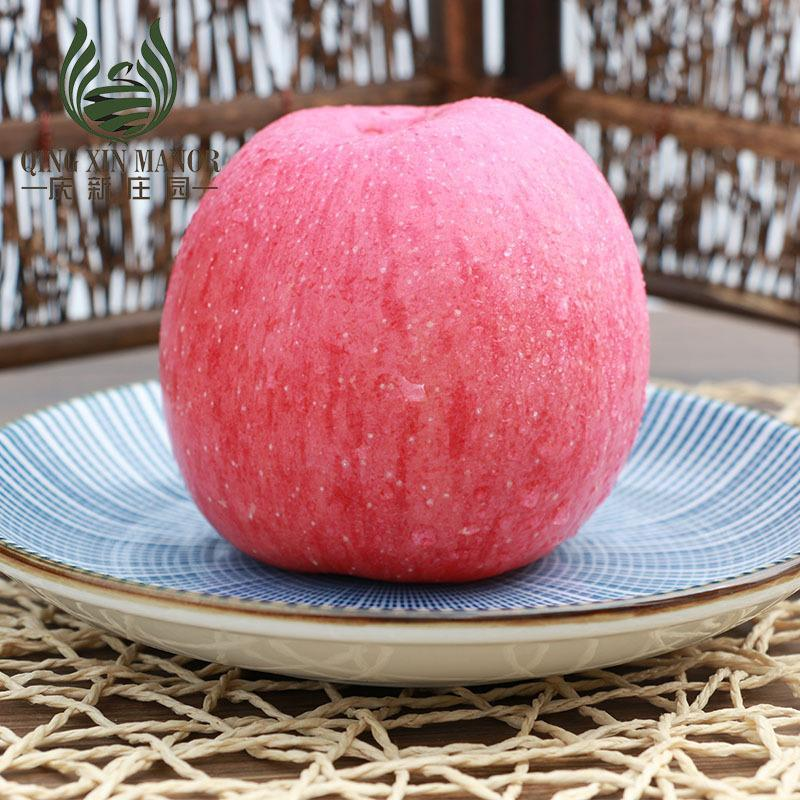apple: (153, 94, 652, 580)
